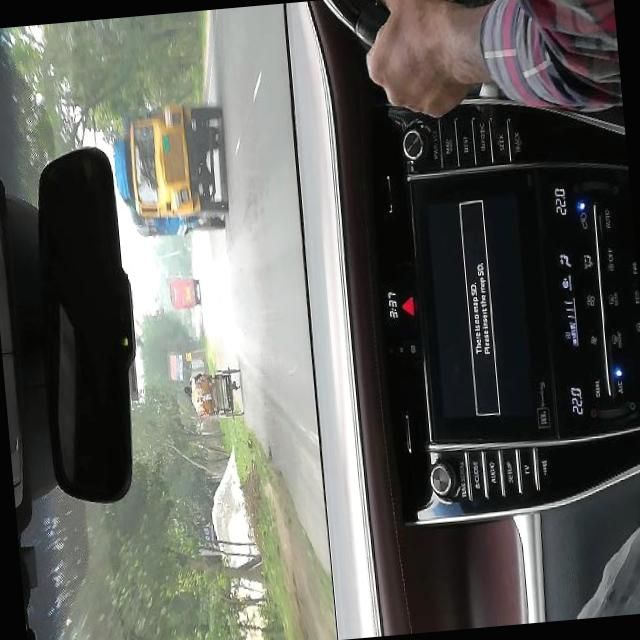bus: (166, 278, 199, 311)
motorcycle: (189, 368, 245, 420)
truck: (108, 104, 230, 241)
